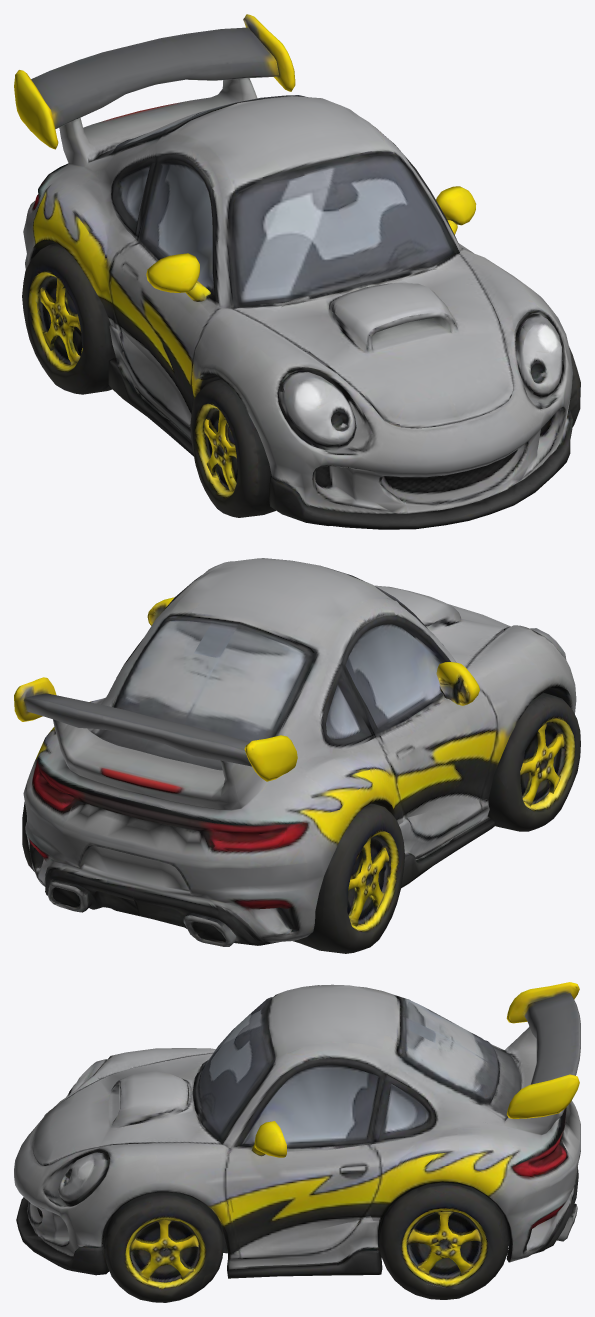
Rendered from car3.glb.
3 views of the same model, one above another, from view 1: azimuth 30°, elevation 25°; view 2: azimuth 150°, elevation 25°; view 3: azimuth 270°, elevation 25° (orthographic). The views are drawn at different scales.
Parts seen in each view (by area): view 1: tripo_node_8cec95e2-94b9-48f1-aef0-b356e4539c78; view 2: tripo_node_8cec95e2-94b9-48f1-aef0-b356e4539c78; view 3: tripo_node_8cec95e2-94b9-48f1-aef0-b356e4539c78.
Boxes of the visible parts, x1,y1,x2,y2 form: tripo_node_8cec95e2-94b9-48f1-aef0-b356e4539c78: (14, 14, 580, 529); tripo_node_8cec95e2-94b9-48f1-aef0-b356e4539c78: (14, 558, 580, 953); tripo_node_8cec95e2-94b9-48f1-aef0-b356e4539c78: (14, 982, 580, 1302).
Size of the model in its own units: 0.5684 by 0.4629 by 0.998.
1 material, 1 textured.
